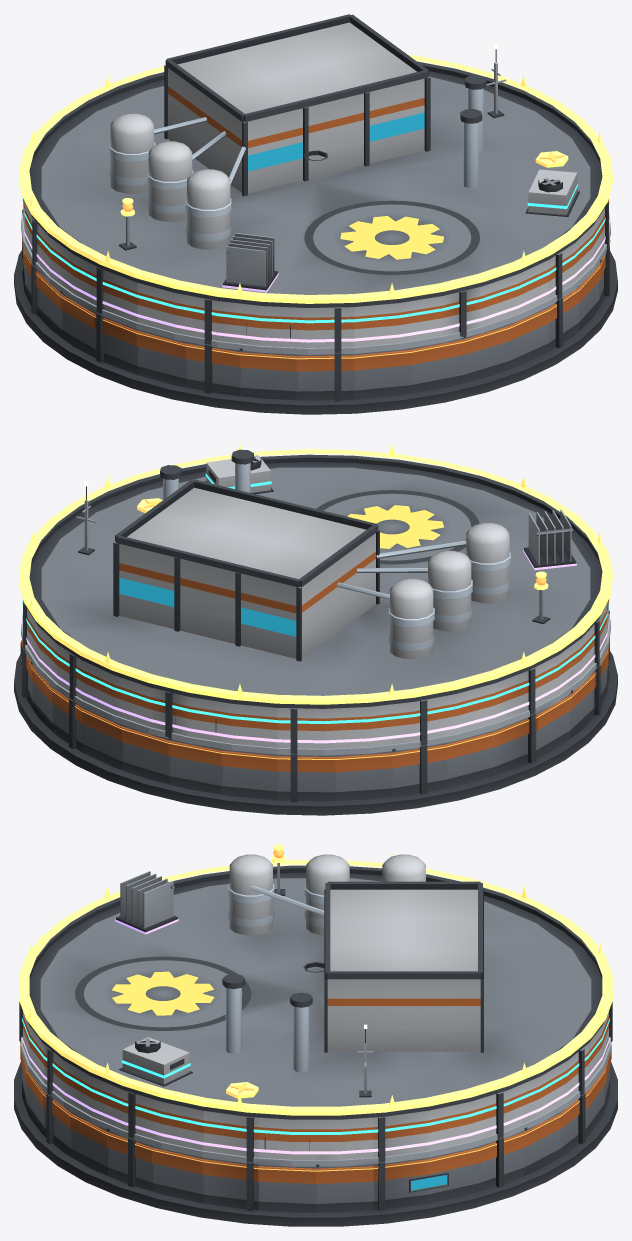
The model's file is superconductor_lab_m.glb.
3 renders of one model, top to bottom at view 1: azimuth 30°, elevation 25°; view 2: azimuth 150°, elevation 25°; view 3: azimuth 270°, elevation 25°, orthographic.
Parts seen in each view (by area): view 1: Roof, Base, Wall_21, L4, Wall_20, Wall_22, Wall_19, Wall_23, Wall_18, L3, Wall_24, Upper_21 (+25 smaller); view 2: Roof, Base, Wall_10, Wall_11, Wall_09, Wall_12, Wall_08, L4, Wall_13, Wall_07, Upper_10, Upper_12 (+27 smaller); view 3: Roof, Base, L4, Wall_00, Wall_31, Wall_30, L3, Wall_29, Wall_01, Wall_02, Wall_28, Wall_03 (+26 smaller).
Boxes of the visible parts, x1,y1,x2,y2 form: Roof: (24,14,605,307); Base: (14,250,617,414); Wall_21: (296,352,354,401); L4: (222,233,278,292); Wall_20: (239,348,296,399); Wall_22: (354,348,410,399); Wall_19: (185,342,239,395); Wall_23: (410,338,463,393); Wall_18: (136,329,186,387); L3: (303,150,579,216); Wall_24: (462,324,510,383); Upper_21: (297,307,354,352); Roof: (26,449,602,708); Base: (14,651,617,815); Wall_10: (277,753,335,802); Wall_11: (335,751,392,800); Wall_09: (221,749,277,800); Wall_12: (392,743,446,796); Wall_08: (168,737,221,794); L4: (523,509,576,569); Wall_13: (445,730,495,788); Wall_07: (121,725,169,784); Upper_10: (277,708,334,753); Upper_12: (391,696,445,745); Roof: (27,854,604,1119); Base: (14,1062,617,1226); L4: (115,871,178,934); Wall_00: (316,1164,373,1212); Wall_31: (258,1164,315,1212); Wall_30: (203,1157,258,1211); L3: (119,962,324,1086); Wall_29: (151,1146,203,1203); Wall_01: (373,1157,428,1211); Wall_02: (428,1146,480,1203); Wall_28: (107,1128,152,1191); Wall_03: (479,1130,524,1191).
Bounding box in the file's own units: 14.75 × 4.96 × 14.75.
